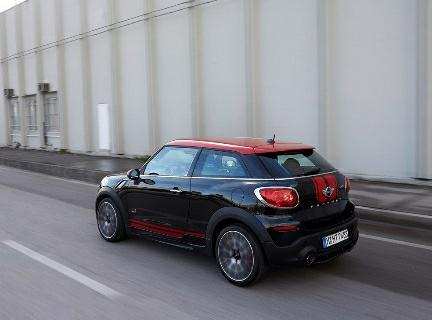MINI-JCWPACEMAN: (91, 128, 366, 286)
